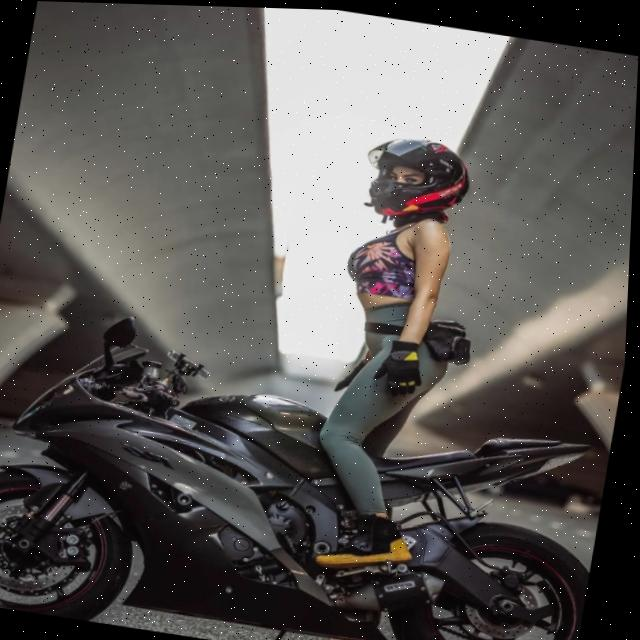helmet: (355, 124, 482, 234)
